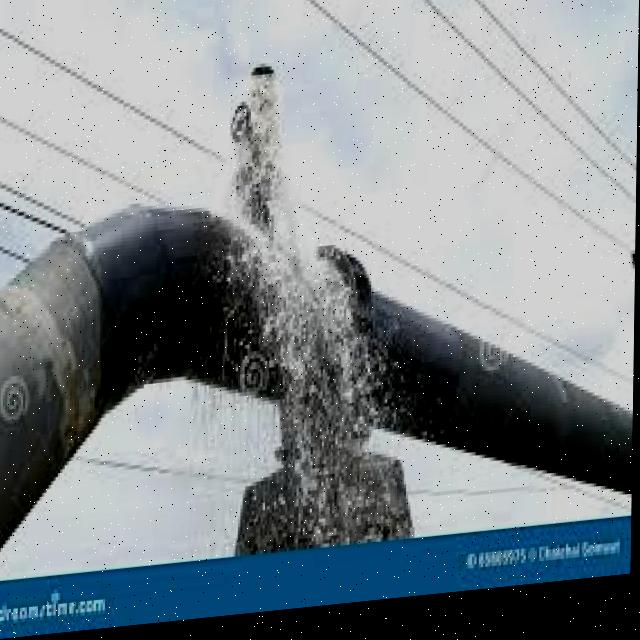corrosion: (138, 1, 447, 494)
